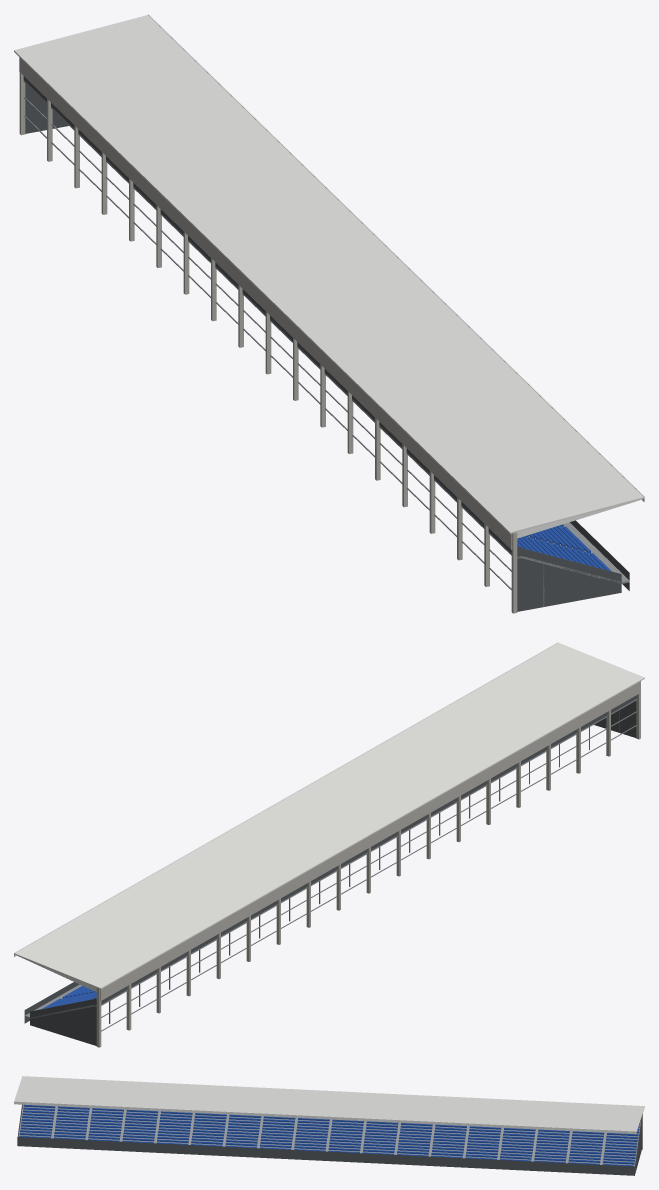
Rendered from mza_stand_vedano.glb.
The picture shows the model from 3 angles, top to bottom: view 1: azimuth 30°, elevation 25°; view 2: azimuth 150°, elevation 25°; view 3: azimuth 270°, elevation 25°; orthographic projection. The views are drawn at different scales.
Visible parts, largest first — view 1: monza-vedano; view 2: monza-vedano; view 3: monza-vedano.
Part boxes in pixels (x1=…): monza-vedano: x1=14, y1=14, x2=644, y2=613; monza-vedano: x1=14, y1=642, x2=644, y2=1047; monza-vedano: x1=14, y1=1076, x2=644, y2=1175.
Bounding box in the file's own units: 33.8 × 12.25 × 148.
